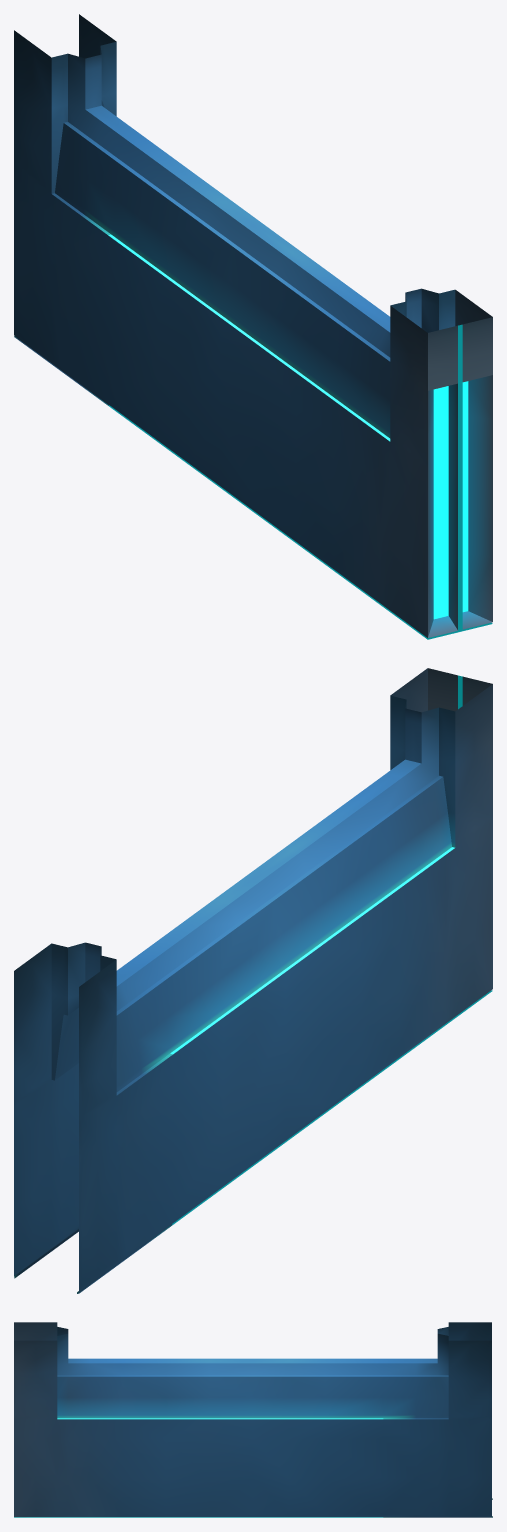
File: Midwall.fbx
3 renders of one model, top to bottom at view 1: azimuth 30°, elevation 25°; view 2: azimuth 150°, elevation 25°; view 3: azimuth 270°, elevation 25°, orthographic. The views are drawn at different scales.
Visible parts, largest first — view 1: Room.022; view 2: Room.022; view 3: Room.022.
Boxes of the visible parts, left/top/right/bottom form: Room.022: left=14, top=14, right=492, bottom=639; Room.022: left=14, top=668, right=492, bottom=1293; Room.022: left=14, top=1322, right=492, bottom=1517.
Bounding box in the file's own units: 200 × 900 × 2204.
